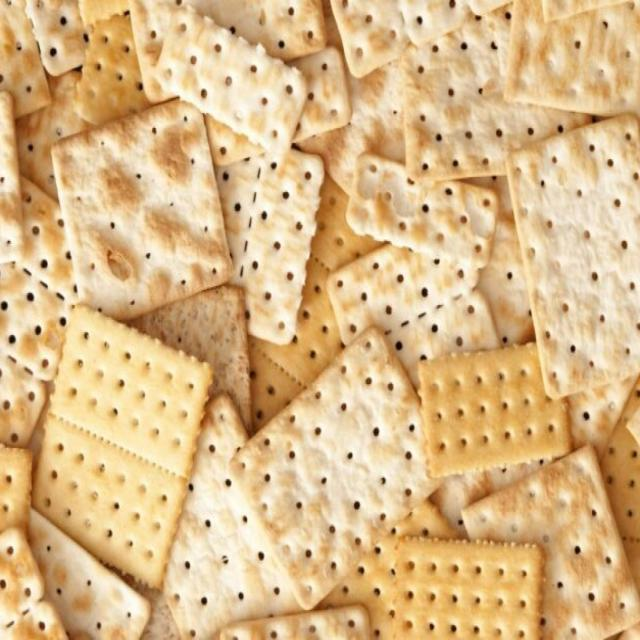Cracker: (231, 312, 445, 605), (27, 308, 205, 572), (498, 103, 640, 396), (50, 122, 242, 308), (414, 341, 579, 473)
